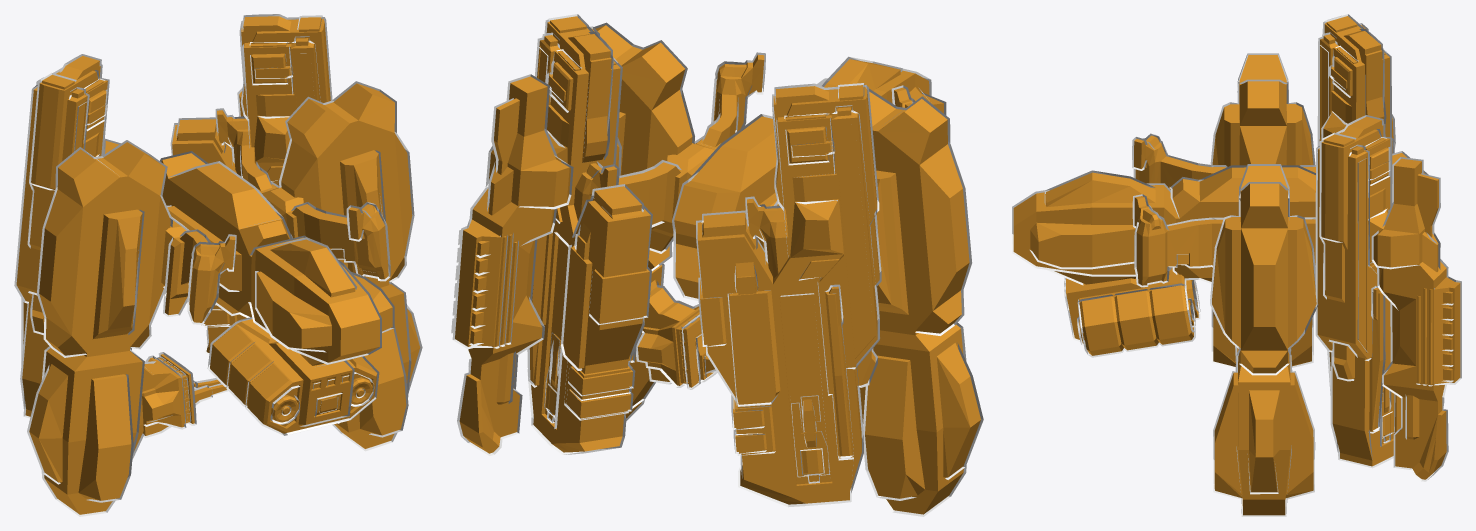
Rendered from ship20_orange.glb.
3 views of the same model, side by side, from view 1: azimuth 30°, elevation 25°; view 2: azimuth 150°, elevation 25°; view 3: azimuth 270°, elevation 25° (orthographic). The views are drawn at different scales.
Parts seen in each view (by area): view 1: ME_ship_IndexedFaceSet; view 2: ME_ship_IndexedFaceSet; view 3: ME_ship_IndexedFaceSet.
Boxes of the visible parts, <box> form: ME_ship_IndexedFaceSet: <box>14,14,422,516</box>; ME_ship_IndexedFaceSet: <box>451,14,983,516</box>; ME_ship_IndexedFaceSet: <box>1012,14,1461,516</box>.
Size of the model in its own units: 381 by 374 by 411.
